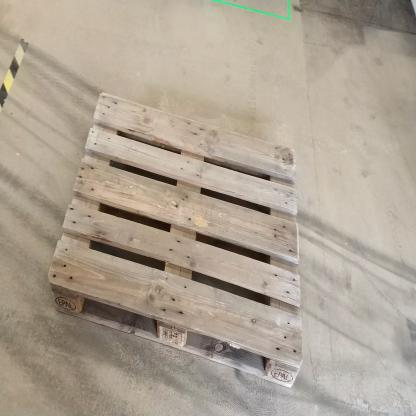BoxFace: (45, 83, 308, 398)
